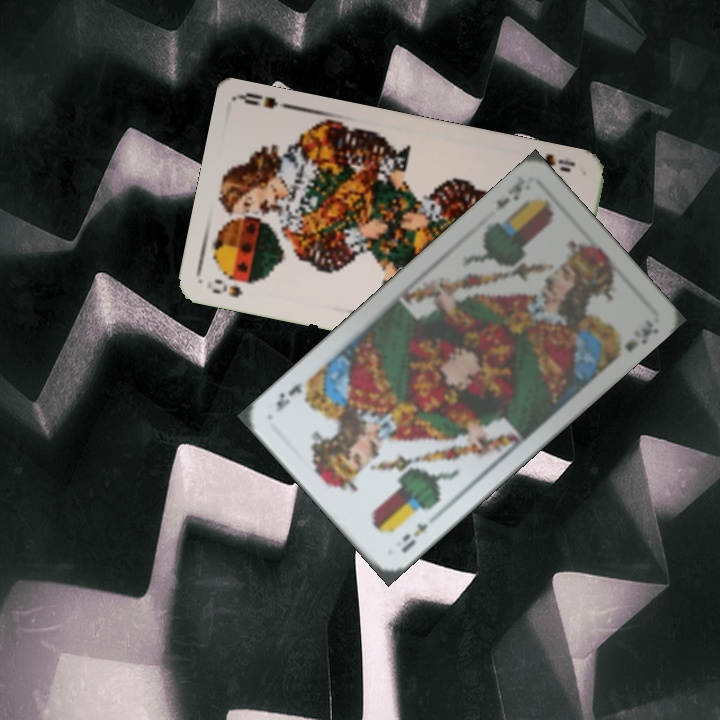EK: (492, 173, 528, 214), (396, 518, 431, 556)
SO: (540, 150, 578, 175), (208, 275, 245, 300)
